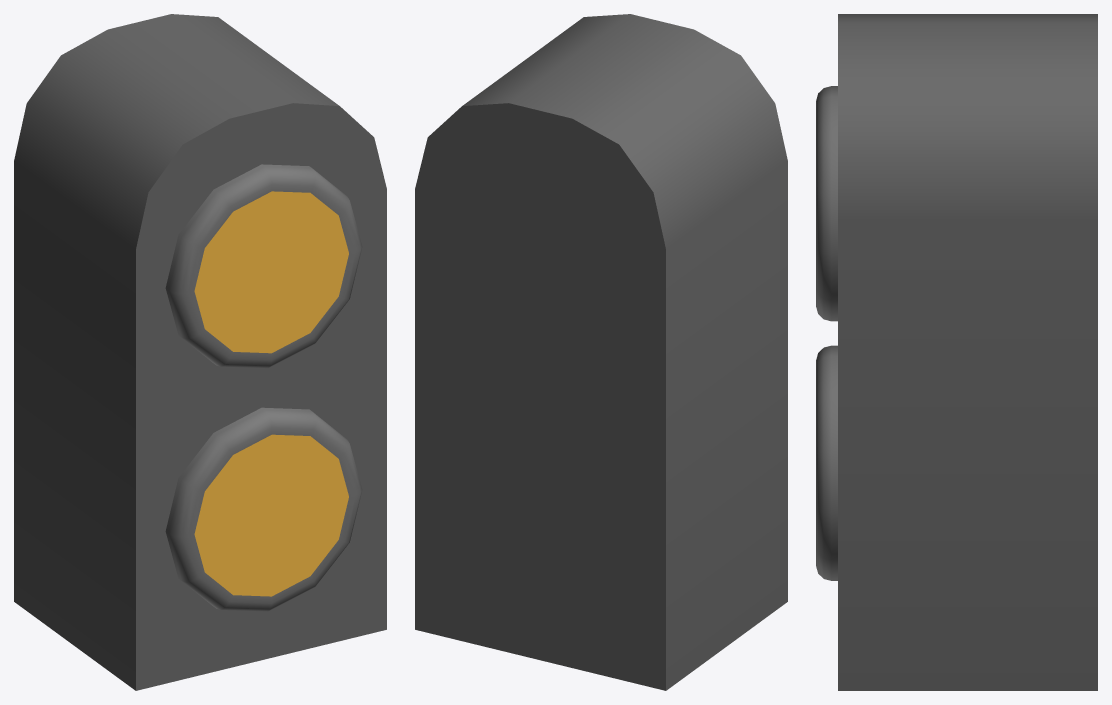
The model's file is Speaker.fbx.
The picture shows the model from 3 angles, left to right: view 1: azimuth 30°, elevation 25°; view 2: azimuth 150°, elevation 25°; view 3: azimuth 270°, elevation 25°; orthographic projection. The views are drawn at different scales.
Parts seen in each view (by area): view 1: Speaker; view 2: Speaker; view 3: Speaker.
Part boxes in pixels (x1=…): Speaker: x1=14, y1=14, x2=386, y2=690; Speaker: x1=415, y1=14, x2=787, y2=690; Speaker: x1=816, y1=14, x2=1097, y2=690.
Bounding box in the file's own units: 0.1056 × 0.2209 × 0.0963.
